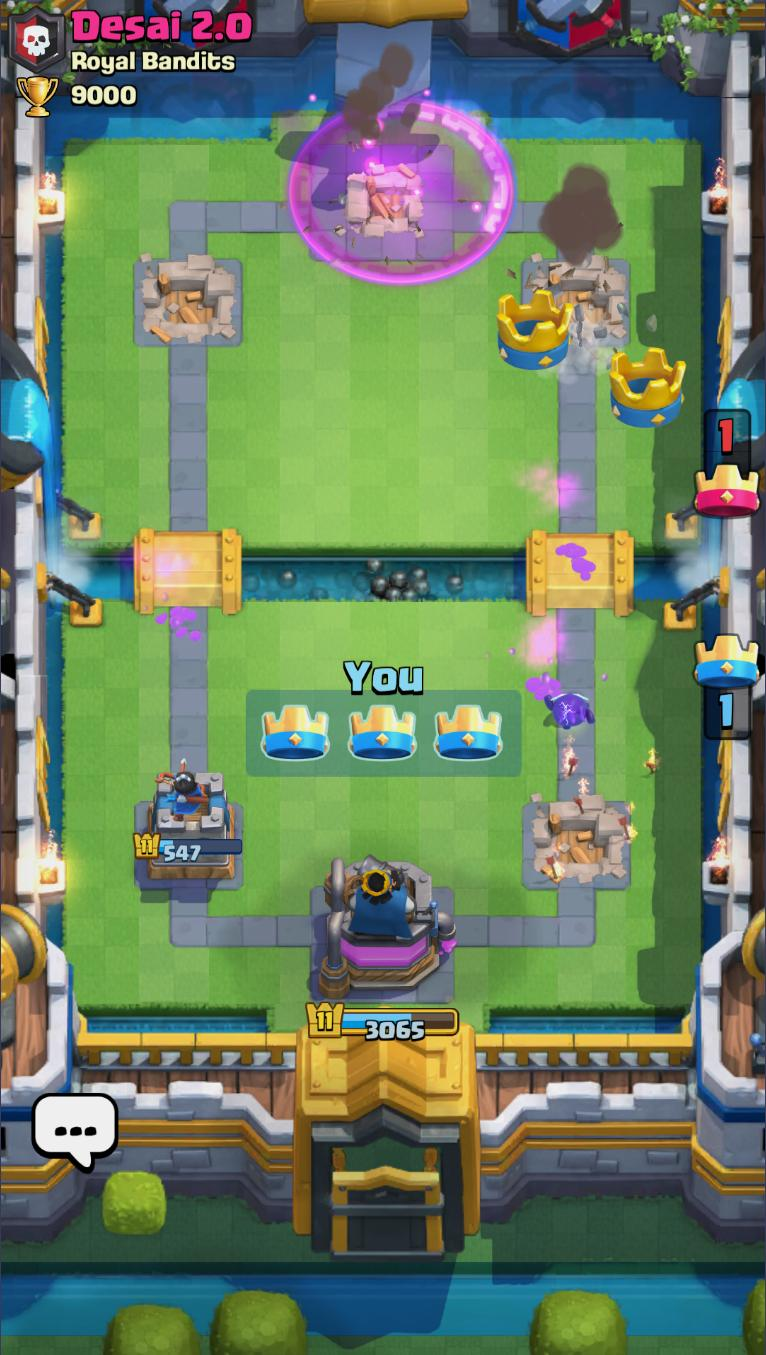EnemyTowerBrocken: (517, 253, 634, 351), (130, 251, 246, 349)
EnemyTowerBrockenCrown: (495, 287, 574, 373), (608, 345, 687, 429)
KingTowerBrocken: (310, 139, 454, 267)
MyElectroSpirit: (544, 687, 600, 735)
MyKingHP: (303, 997, 460, 1043)
MyKingTower: (317, 851, 458, 1000)
MyPrincessTower: (131, 769, 245, 886)
MyPrincessTowerBrocken: (518, 793, 637, 895)
MyPrincessTowerHP: (132, 831, 248, 865)
Rage: (286, 96, 515, 283)
